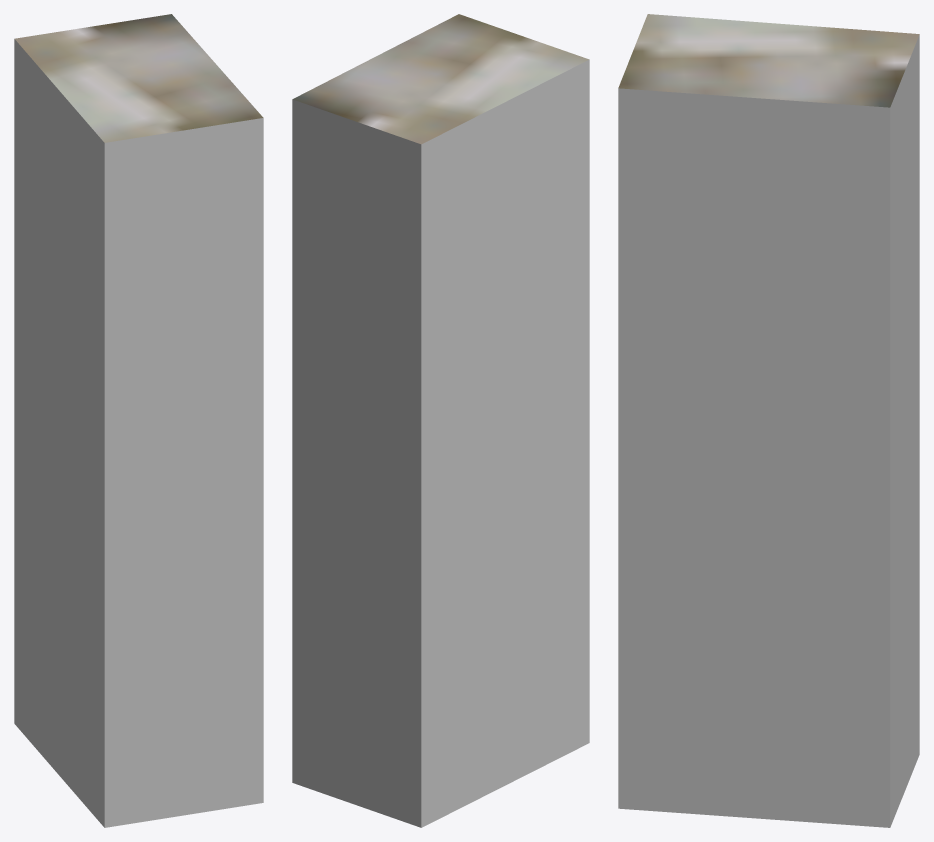
File: DEBW_0010007THXo.gltf
3 renders of one model, left to right at view 1: azimuth 30°, elevation 25°; view 2: azimuth 150°, elevation 25°; view 3: azimuth 270°, elevation 25°, orthographic. The views are drawn at different scales.
Parts seen in each view (by area): view 1: Z_UP; view 2: Z_UP; view 3: Z_UP.
Boxes of the visible parts, x1=… form: Z_UP: x1=14, y1=14, x2=263, y2=827; Z_UP: x1=292, y1=14, x2=589, y2=827; Z_UP: x1=618, y1=14, x2=919, y2=827.
Bounding box in the file's own units: 2.33 × 8.36 × 3.17.
2 materials, 1 textured.
